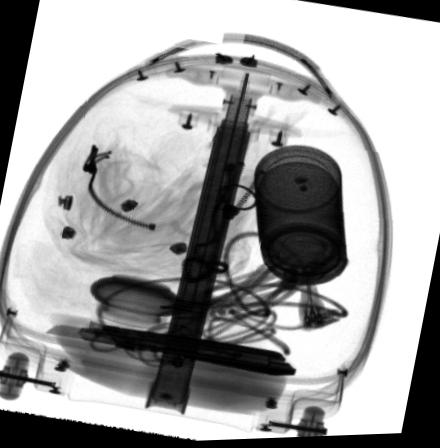Knife: (45, 323, 295, 378)
